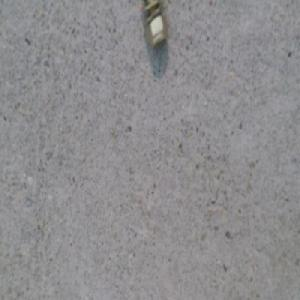BoltNutSet: (143, 4, 167, 58)
